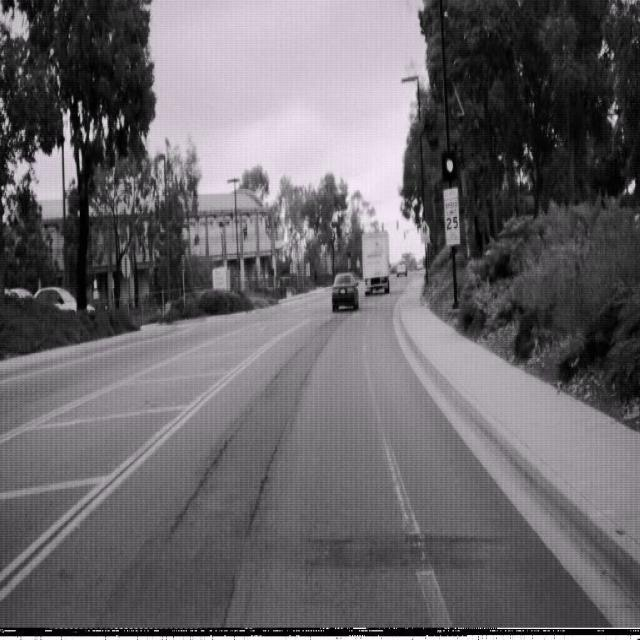speedLimit25: (442, 186, 460, 246)
